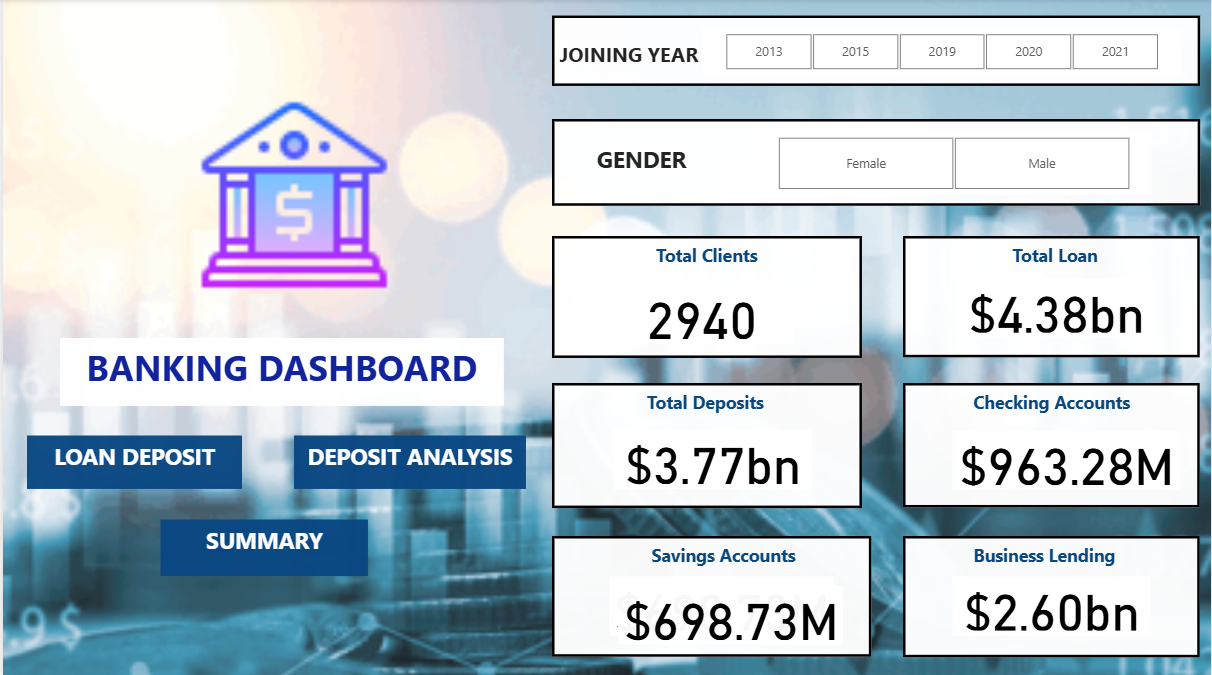

Layout of this report page (visuals, bound fields, positions):
{"tool":"powerbi","page":{"name":"Home","canvas":[1280,720],"ordinal":0},"visuals":[{"type":"image","box":[183.3,81.3,251.3,253.2],"z":0},{"type":"textbox","box":[60.5,359.1,470.6,71.8],"z":1000},{"type":"textbox","box":[25.9,463.1,228.3,56.7],"z":2000},{"type":"textbox","box":[309.3,463.1,246.1,56.7],"z":3000},{"type":"textbox","box":[166.8,552.2,220.2,59.9],"z":4000},{"type":"textbox","box":[582.2,17.5,687.1,74.8],"z":5000},{"type":"textbox","box":[582.2,127.2,687.1,92.3],"z":6000},{"type":"textbox","box":[582.9,251,328.7,129.5],"z":7000},{"type":"textbox","box":[954.4,251.3,314.9,128.8],"z":8000},{"type":"textbox","box":[954.4,407.2,314.9,132],"z":9000},{"type":"textbox","box":[954.4,569.4,314.9,128.8],"z":10000},{"type":"textbox","box":[582.9,406.4,328.7,132.8],"z":11000},{"type":"textbox","box":[582.9,570,338.4,127.9],"z":12000},{"type":"card","fields":{"Values":["Count(Banking_Clients.Client ID)"]},"box":[642.6,302.2,195.6,63.6],"z":13000},{"type":"slicer","fields":{"Values":["Gender.Gender"]},"box":[796.7,139.3,421,68],"z":14000},{"type":"card","fields":{"Values":["Banking Relationship.Total loan"]},"box":[1012,296.3,210.5,63.1],"z":15000},{"type":"card","fields":{"Values":["Banking Relationship.Total deposits"]},"box":[647.7,456.6,210.5,63.1],"z":16000},{"type":"slicer","fields":{"Values":["Clients - Banking.Joined Bank.Variation.Date Hierarchy.Year"]},"box":[741.2,30.2,507.4,50.9],"z":17000},{"type":"card","fields":{"Values":["Sum(Banking_Clients.Checking Accounts)"]},"box":[1006.6,457.7,241,62.8],"z":18000},{"type":"card","fields":{"Values":["Sum(Banking_Clients.Saving Accounts)"]},"box":[642,611.6,239,62.8],"z":19000},{"type":"card","fields":{"Values":["Sum(Banking_Clients.Business Lending)"]},"box":[1007.3,612.3,209.8,62.4],"z":20000},{"type":"actionButton","box":[40.5,468,199.2,40.5],"z":21000},{"type":"actionButton","box":[320.6,468,234.8,40.5],"z":22000},{"type":"actionButton","box":[195.9,552.2,153.8,47],"z":23000},{"type":"card","fields":{"Values":["Sum(Banking_Clients.Saving Accounts)"]},"box":[652,621.6,239,62.8],"z":24000}]}

Visuals, with their boxes in screenshot pixels (x1, y1, x2, y2), scaled from the page's 1280x720 canvas onto the 1212x675 screenshot:
image: bbox(174, 76, 412, 314)
textbox: bbox(57, 337, 503, 404)
textbox: bbox(25, 434, 241, 487)
textbox: bbox(293, 434, 526, 487)
textbox: bbox(158, 518, 366, 574)
textbox: bbox(551, 16, 1202, 87)
textbox: bbox(551, 119, 1202, 206)
textbox: bbox(552, 235, 863, 357)
textbox: bbox(904, 236, 1202, 356)
textbox: bbox(904, 382, 1202, 506)
textbox: bbox(904, 534, 1202, 655)
textbox: bbox(552, 381, 863, 506)
textbox: bbox(552, 534, 872, 654)
card - Count(Banking_Clients.Client ID): bbox(608, 283, 794, 343)
slicer - Gender.Gender: bbox(754, 131, 1153, 194)
card - Banking Relationship.Total loan: bbox(958, 278, 1158, 337)
card - Banking Relationship.Total deposits: bbox(613, 428, 813, 487)
slicer - Clients - Banking.Joined Bank.Variation.Date Hierarchy.Year: bbox(702, 28, 1182, 76)
card - Sum(Banking_Clients.Checking Accounts): bbox(953, 429, 1181, 488)
card - Sum(Banking_Clients.Saving Accounts): bbox(608, 573, 834, 632)
card - Sum(Banking_Clients.Business Lending): bbox(954, 574, 1152, 633)
actionButton: bbox(38, 439, 227, 477)
actionButton: bbox(304, 439, 526, 477)
actionButton: bbox(185, 518, 331, 562)
card - Sum(Banking_Clients.Saving Accounts): bbox(617, 583, 844, 642)
